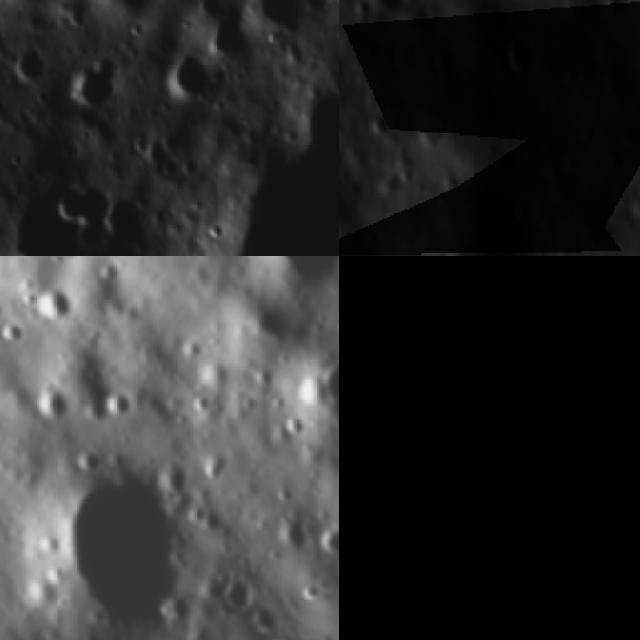crater: (0, 414, 234, 640), (274, 304, 339, 463), (381, 286, 459, 360), (243, 256, 339, 313), (26, 266, 91, 336), (493, 539, 549, 597), (23, 377, 78, 434), (538, 306, 593, 363), (339, 256, 388, 318), (386, 256, 472, 291), (44, 186, 110, 228), (527, 431, 580, 483), (460, 323, 507, 376), (490, 468, 538, 514), (69, 64, 115, 103), (350, 576, 392, 618), (500, 30, 539, 75), (340, 611, 398, 640), (339, 439, 374, 480), (172, 56, 205, 99), (472, 572, 508, 608), (393, 462, 429, 498), (392, 544, 427, 578), (339, 484, 372, 520), (339, 394, 369, 430), (615, 515, 640, 556), (619, 334, 640, 381), (482, 387, 512, 419), (606, 419, 636, 448), (125, 138, 150, 157), (208, 225, 226, 248), (630, 413, 640, 445), (452, 634, 504, 640), (504, 635, 530, 640)
